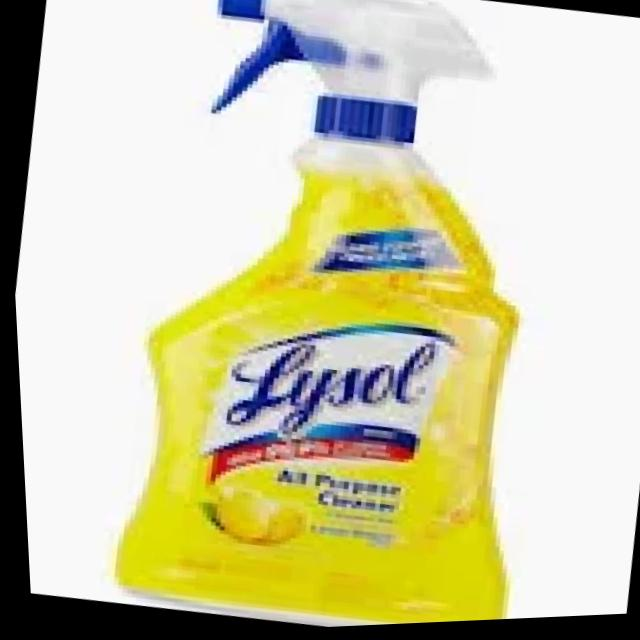Botella: (86, 0, 586, 600)
